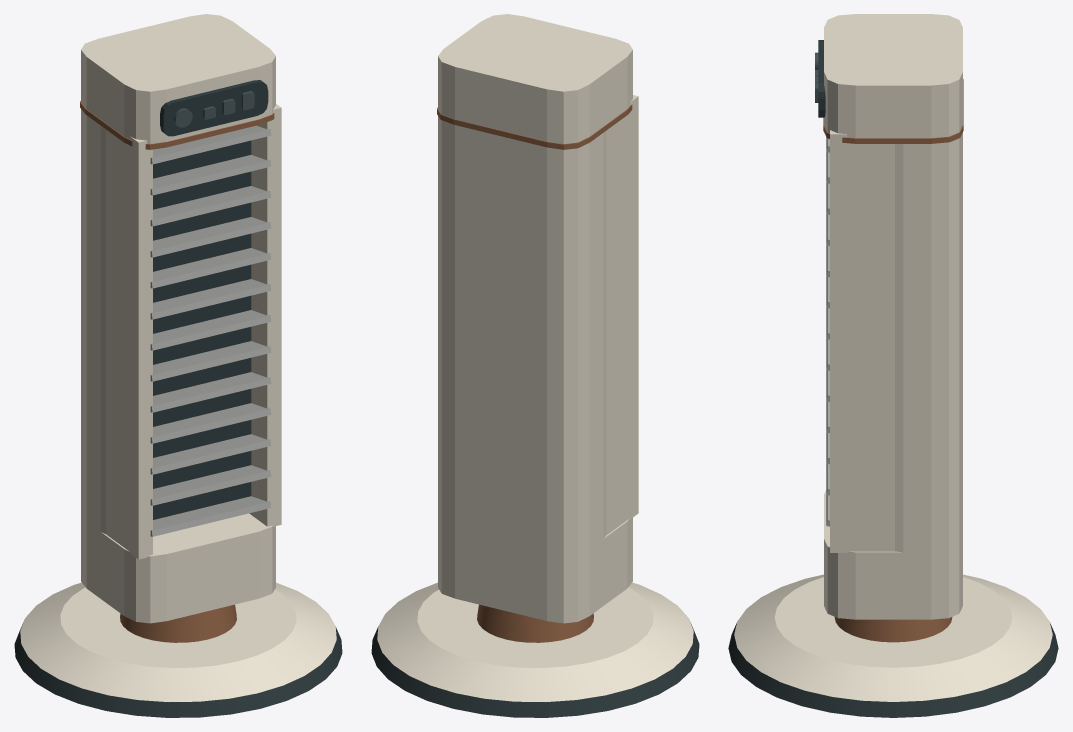
The picture shows the model from 3 angles, left to right: view 1: azimuth 30°, elevation 25°; view 2: azimuth 150°, elevation 25°; view 3: azimuth 270°, elevation 25°; orthographic projection.
Visible parts, largest first — view 1: outlet-side-stiles, transverse-vanes, base-shoulder, outlet-dark-plenum, upper-fascia, lower-fascia, rear-housing, weighted-foot, control-bezel, turntable-neck, fascia-trim; view 2: rear-housing, base-shoulder, upper-fascia, outlet-side-stiles, lower-fascia, weighted-foot, turntable-neck, fascia-trim; view 3: rear-housing, outlet-side-stiles, base-shoulder, upper-fascia, lower-fascia, weighted-foot, turntable-neck, transverse-vanes, fascia-trim.
Boxes of the visible parts, <box> form: outlet-side-stiles: <box>106,104,281,559</box>; transverse-vanes: <box>150,125,271,536</box>; base-shoulder: <box>20,582,336,701</box>; outlet-dark-plenum: <box>153,140,251,519</box>; upper-fascia: <box>81,14,275,144</box>; lower-fascia: <box>81,513,275,623</box>; rear-housing: <box>81,100,105,533</box>; weighted-foot: <box>14,622,342,717</box>; control-bezel: <box>160,80,268,136</box>; turntable-neck: <box>120,604,236,642</box>; fascia-trim: <box>80,101,274,149</box>; rear-housing: <box>438,107,606,557</box>; base-shoulder: <box>377,582,693,701</box>; upper-fascia: <box>438,14,632,143</box>; outlet-side-stiles: <box>606,95,638,535</box>; lower-fascia: <box>438,518,632,623</box>; weighted-foot: <box>371,622,699,717</box>; turntable-neck: <box>477,604,593,642</box>; fascia-trim: <box>437,104,632,149</box>; rear-housing: <box>895,123,962,552</box>; outlet-side-stiles: <box>830,130,894,552</box>; base-shoulder: <box>734,574,1052,701</box>; upper-fascia: <box>824,14,962,138</box>; lower-fascia: <box>824,490,962,619</box>; weighted-foot: <box>728,623,1058,717</box>; turntable-neck: <box>834,617,952,642</box>; transverse-vanes: <box>826,137,829,526</box>; fascia-trim: <box>823,79,963,143</box>.
Bounding box in the file's own units: 0.4 × 0.8 × 0.4.
